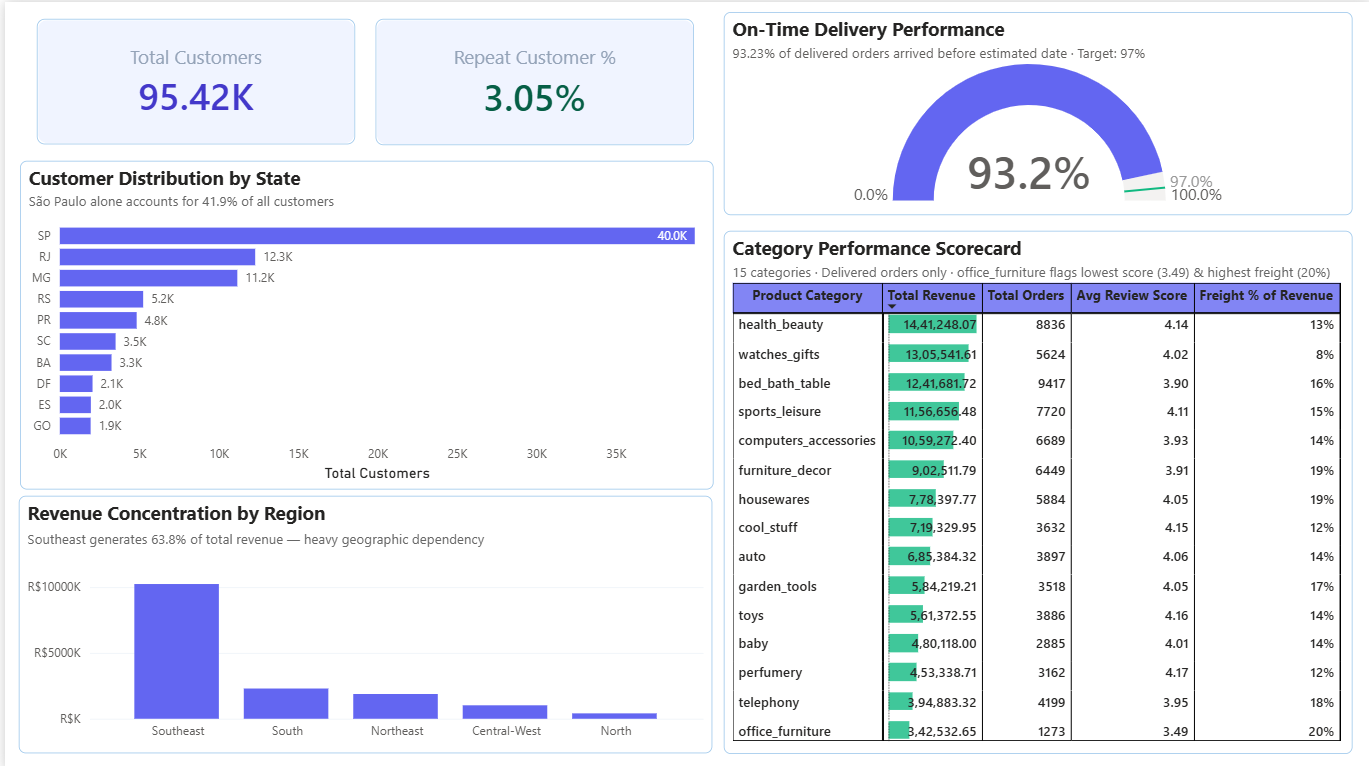

The page's visual inventory and layout, read from the dashboard file:
{"tool":"powerbi","page":{"name":"Customer and Product Analysis","canvas":[1366,768],"ordinal":1},"visuals":[{"type":"clusteredBarChart","title":"Customer Distribution by State","fields":{"Category":["olist_data.customer_state"],"Y":["_Measures.Total Customers"]},"box":[14.6,159.2,694,329.1],"z":0},{"type":"clusteredColumnChart","title":"Revenue Concentration by Region","fields":{"Category":["olist_data.customer_region"],"Y":["_Measures.Total Revenue"]},"box":[13.3,493.6,694,257.4],"z":1000},{"type":"pivotTable","title":"Category Performance Scorecard","fields":{"Rows":["olist_data.product_category"],"Values":["_Measures.Total Revenue","_Measures.Total Orders","_Measures.Avg Review Score","_Measures.Freight % of Revenue"]},"box":[718.6,228.6,628.6,522.9],"z":2000},{"type":"gauge","title":"On-Time Delivery Performance","fields":{"Y":["_Measures.On Time Delivery %"]},"box":[718.6,10,628.6,202.9],"z":3000},{"type":"cardVisual","fields":{"Data":["_Measures.Total Customers"]},"box":[14.6,0,353,159.2],"z":4000},{"type":"cardVisual","fields":{"Data":["_Measures.Repeat Customer %"]},"box":[354.3,0,353,160.6],"z":5000}]}

Visuals, with their boxes in screenshot pixels (x1, y1, x2, y2), scaled from the page's 1366x768 canvas onto the 1369x766 screenshot:
"Customer Distribution by State" clusteredBarChart: pyautogui.locateOnScreen(15, 159, 710, 487)
"Revenue Concentration by Region" clusteredColumnChart: pyautogui.locateOnScreen(13, 492, 709, 749)
"Category Performance Scorecard" pivotTable: pyautogui.locateOnScreen(720, 228, 1350, 750)
"On-Time Delivery Performance" gauge: pyautogui.locateOnScreen(720, 10, 1350, 212)
cardVisual - _Measures.Total Customers: pyautogui.locateOnScreen(15, 0, 368, 159)
cardVisual - _Measures.Repeat Customer %: pyautogui.locateOnScreen(355, 0, 709, 160)
